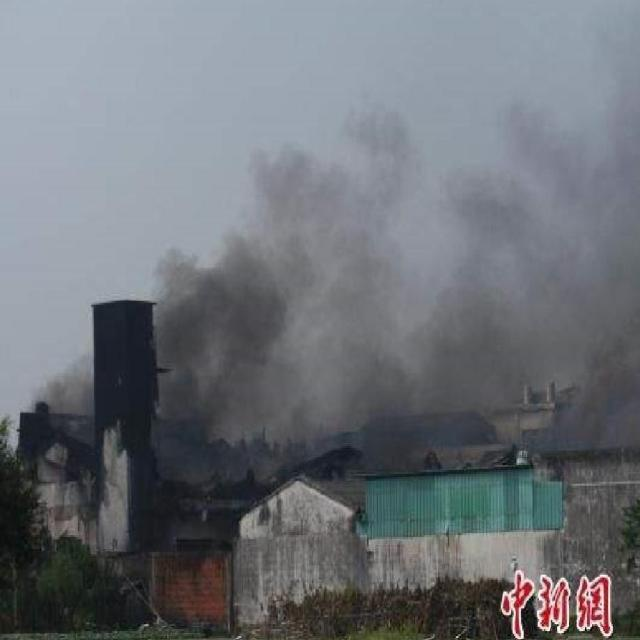Smoke: (152, 95, 640, 486), (30, 352, 95, 414)
